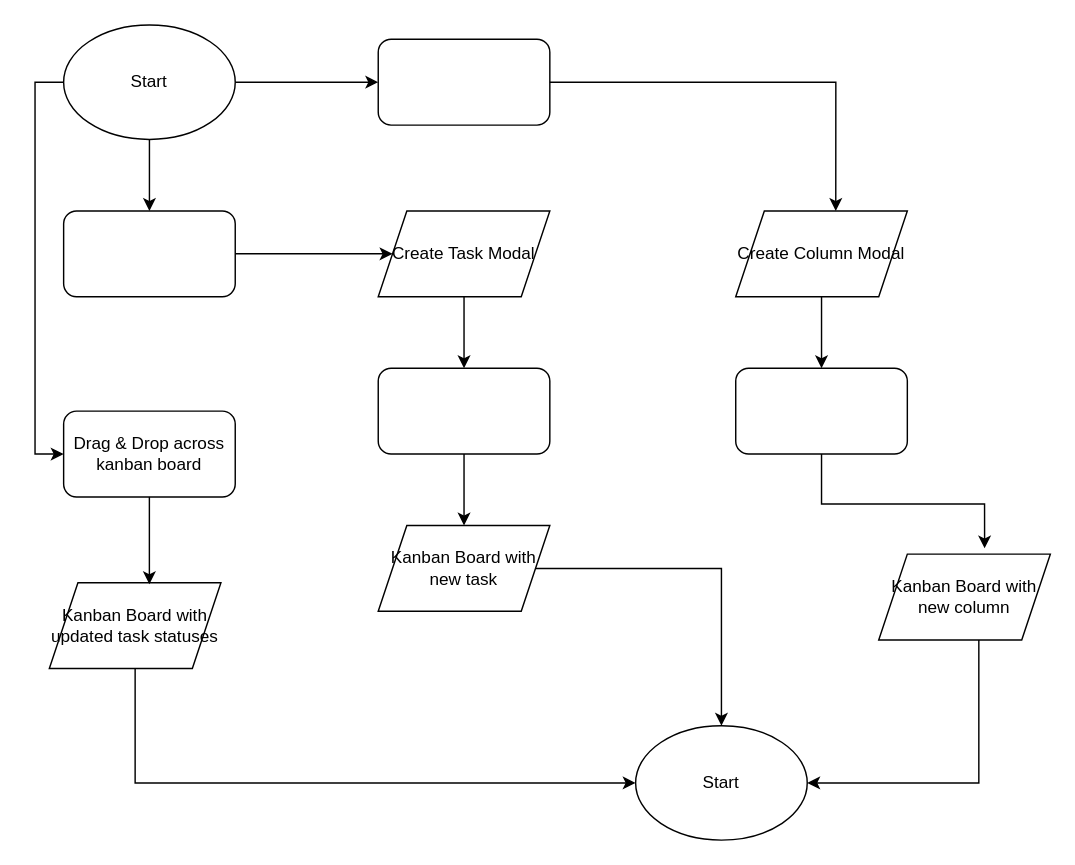
The diagram is 1075 pixels wide and 865 high, and some of its shapes have lost their labels. Here are the shapes that lost their labels. From the top down, the centre of each, then its label:
(x=463, y=81): Click "Create Column" button
(x=148, y=253): Click "Create Task" button
(x=463, y=410): Confirm Task Creation
(x=820, y=410): Confirm Column Creation
